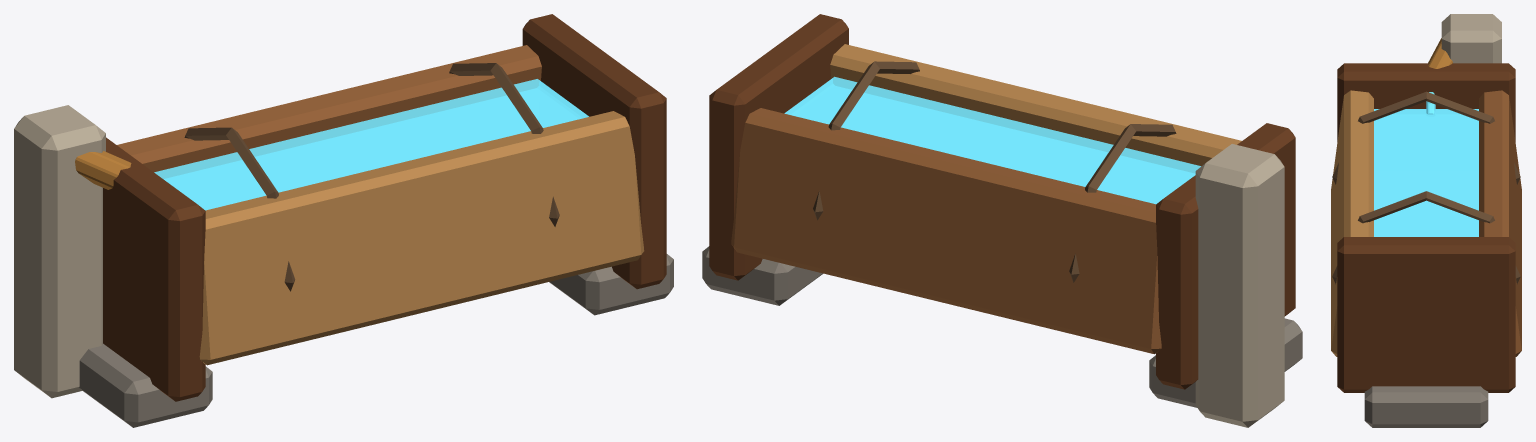
The picture shows the model from 3 angles, left to right: view 1: azimuth 30°, elevation 25°; view 2: azimuth 150°, elevation 25°; view 3: azimuth 270°, elevation 25°; orthographic projection. The views are drawn at different scales.
Visible parts, largest first — view 1: WK_TimberWaterTrough_LOD2_Compact; view 2: WK_TimberWaterTrough_LOD2_Compact; view 3: WK_TimberWaterTrough_LOD2_Compact.
Boxes of the visible parts, x1,y1,x2,y2 form: WK_TimberWaterTrough_LOD2_Compact: (14,14,673,427); WK_TimberWaterTrough_LOD2_Compact: (702,14,1302,427); WK_TimberWaterTrough_LOD2_Compact: (1331,14,1521,427).
Bounding box in the file's own units: 3.43 × 1.48 × 1.26.
